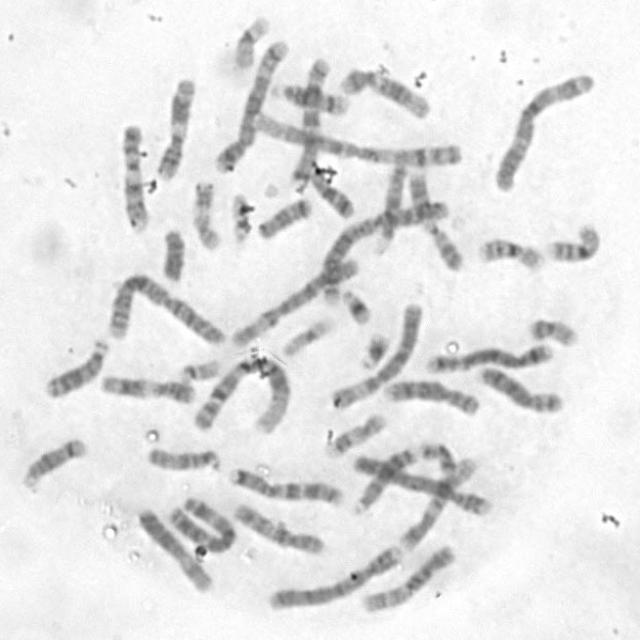A1: (249, 107, 465, 170), (189, 349, 294, 436)
A2: (310, 193, 452, 307), (100, 268, 228, 348)
A3: (489, 66, 598, 194), (164, 492, 238, 554)
B4: (349, 447, 498, 518), (263, 540, 406, 613)
B5: (209, 31, 292, 174), (422, 338, 557, 375)
C10: (357, 538, 460, 614), (228, 496, 329, 556)
C11: (152, 70, 198, 182), (96, 368, 200, 406)
C12: (393, 451, 479, 551), (336, 59, 434, 120)
C6: (227, 252, 361, 350), (325, 295, 426, 409)
C7: (288, 53, 333, 188), (224, 460, 348, 508)
C8: (474, 360, 567, 415), (379, 372, 483, 418)
C9: (401, 164, 467, 272), (116, 118, 152, 234)
D13: (348, 441, 419, 516), (37, 331, 109, 401)
D14: (16, 432, 88, 492), (265, 77, 352, 117)
D15: (370, 156, 410, 255), (143, 441, 225, 474)
E16: (473, 232, 547, 273), (542, 216, 603, 264)
E17: (321, 406, 389, 459), (188, 174, 225, 252)
E18: (254, 192, 315, 240), (308, 165, 357, 219)
F19: (277, 310, 336, 358), (230, 8, 274, 70)
F20: (524, 310, 582, 348), (414, 437, 458, 477)
G21: (354, 326, 394, 371), (337, 283, 375, 327)
G22: (224, 188, 255, 245), (174, 352, 223, 383)
X: (131, 501, 215, 595)
Y: (154, 222, 188, 283)
